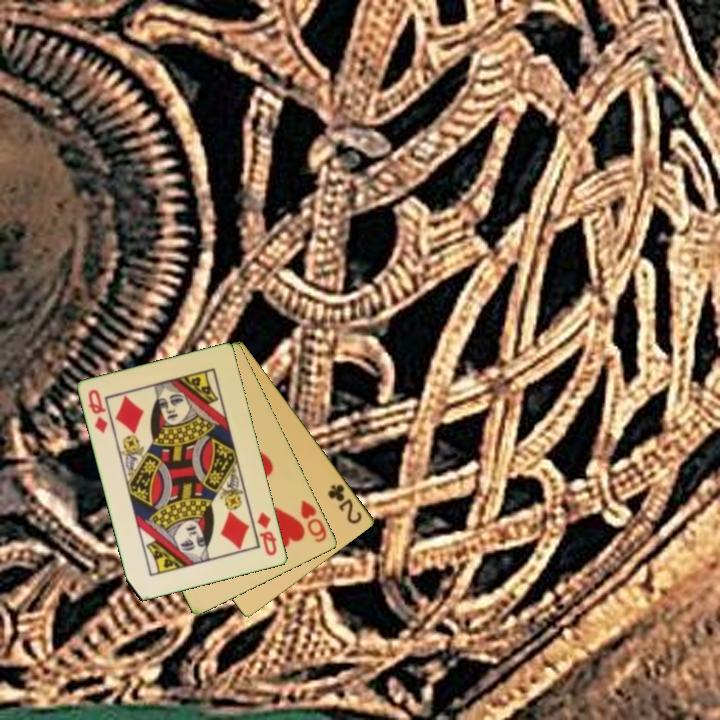2c: (324, 480, 365, 527)
6h: (297, 496, 330, 546)
Qd: (254, 508, 280, 559), (85, 386, 111, 436)
